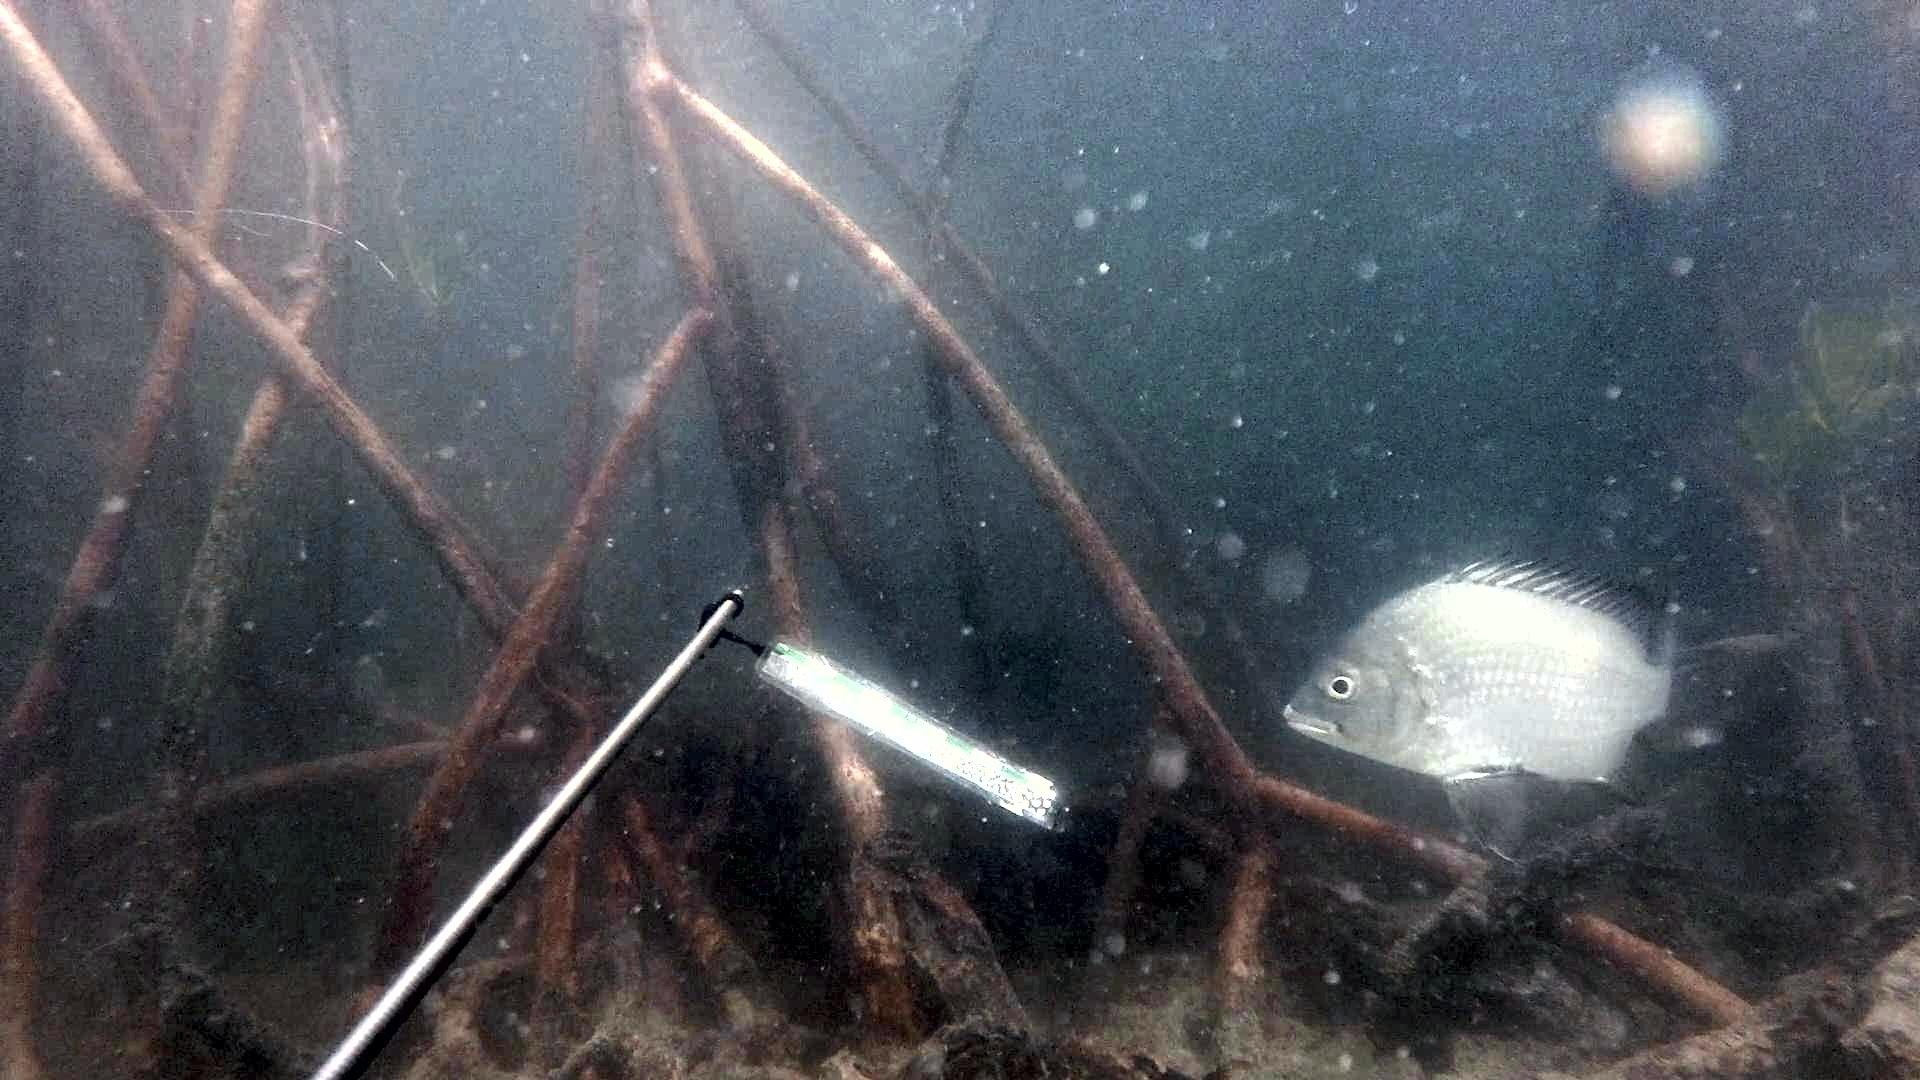acanthopagrus palmaris: (1275, 548, 1700, 871)
